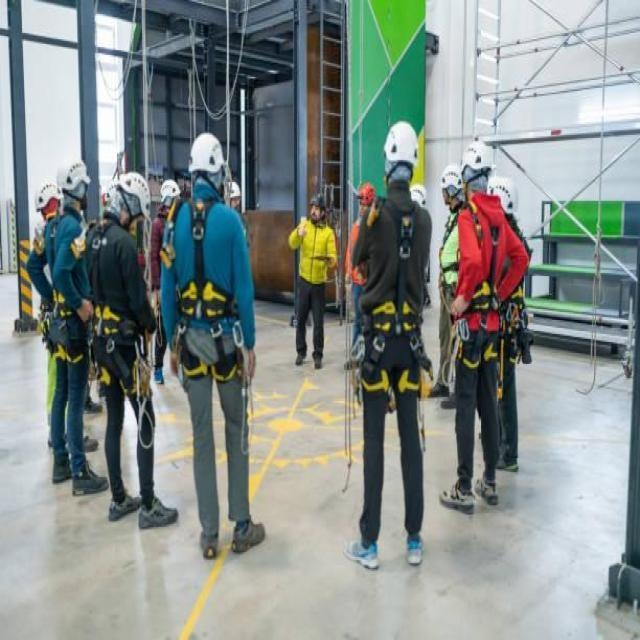Arnes_seguridad: (164, 190, 243, 386), (357, 192, 430, 403), (87, 219, 148, 400), (460, 192, 505, 376), (43, 217, 82, 364)
